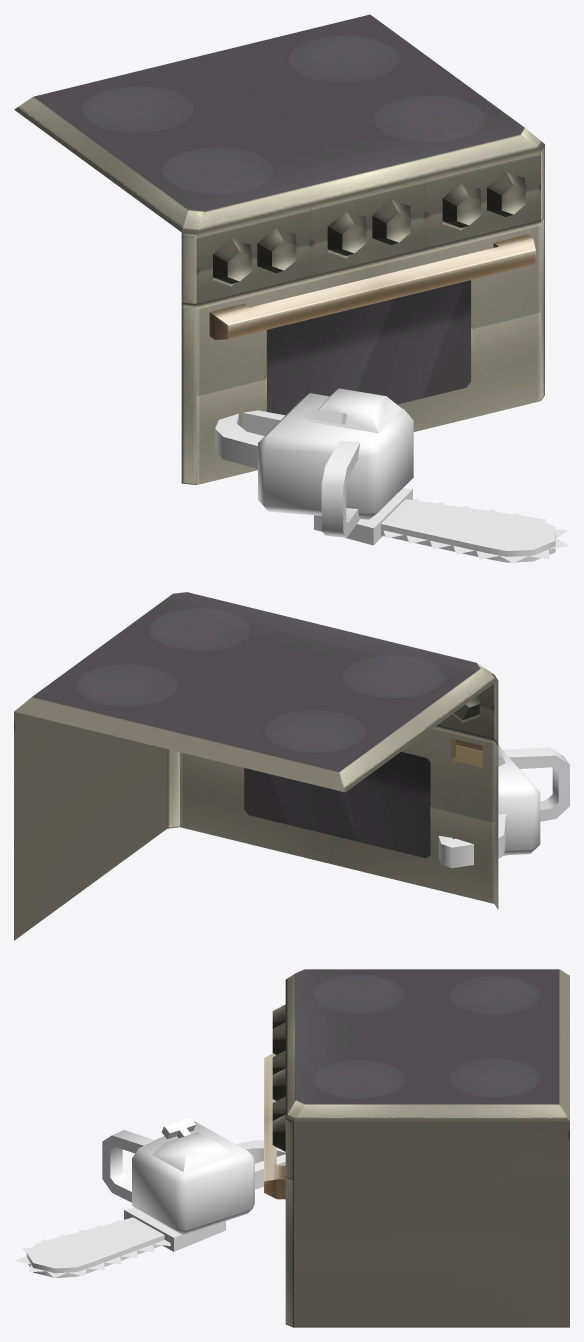
File: KitchenTumb 1.fbx
3 views of the same model, one above another, from view 1: azimuth 30°, elevation 25°; view 2: azimuth 150°, elevation 25°; view 3: azimuth 270°, elevation 25° (orthographic). The views are drawn at different scales.
Visible parts, largest first — view 1: KitchenTumb 1, Chainsaw; view 2: KitchenTumb 1, Chainsaw; view 3: KitchenTumb 1, Chainsaw.
Part boxes in pixels (x1,y1,x2,y2): KitchenTumb 1: (14,14,544,484); Chainsaw: (215,388,569,563); KitchenTumb 1: (14,592,498,940); Chainsaw: (438,744,569,868); KitchenTumb 1: (264,969,569,1327); Chainsaw: (14,1117,285,1277).
Bounding box in the file's own units: 1.25 × 0.8996 × 2.02.
Materials: 2 (1 with a texture image).
